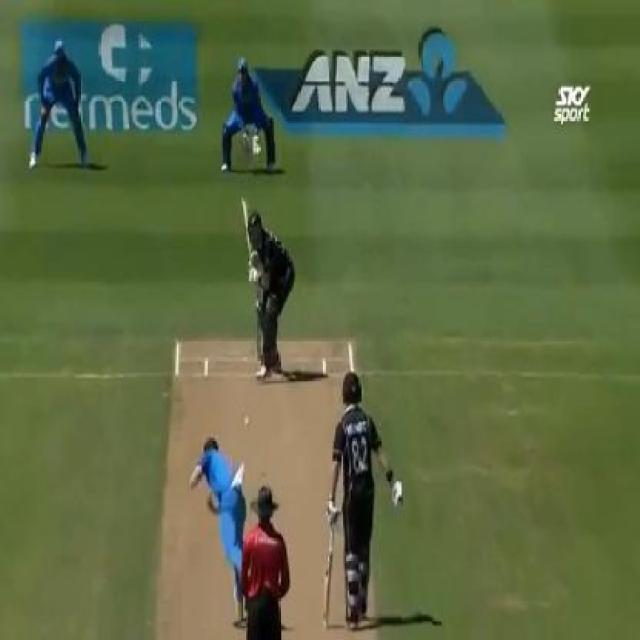Cricket ball: (242, 415, 253, 427)
